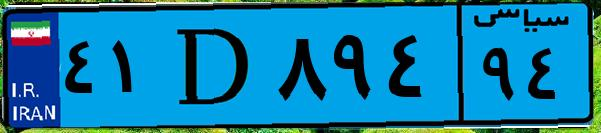1: (110, 28, 158, 98)
4: (385, 28, 445, 110), (57, 26, 110, 100), (525, 38, 570, 115)
8: (270, 28, 330, 110)
9: (330, 28, 385, 110), (475, 38, 525, 113)
D: (158, 12, 270, 120)
